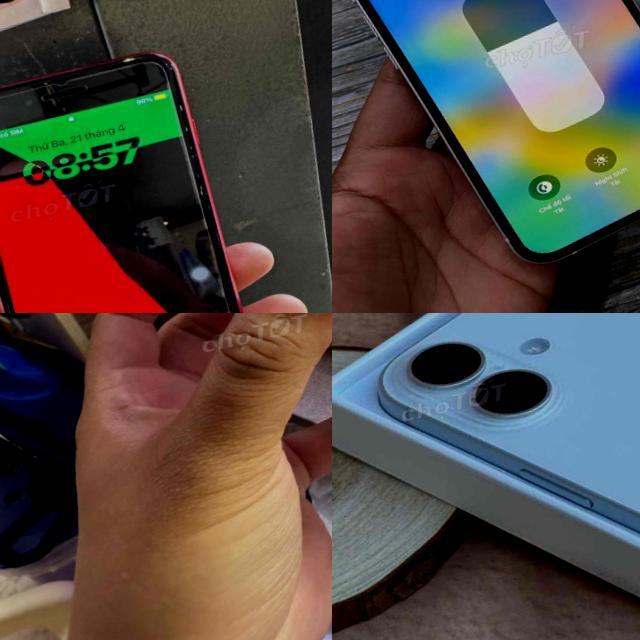gen_12_13: (332, 0, 640, 297)
gen_15: (0, 313, 332, 557)
gen_17: (353, 313, 640, 640)
gen_7_8: (0, 30, 279, 313)
scratch: (38, 77, 52, 88)
